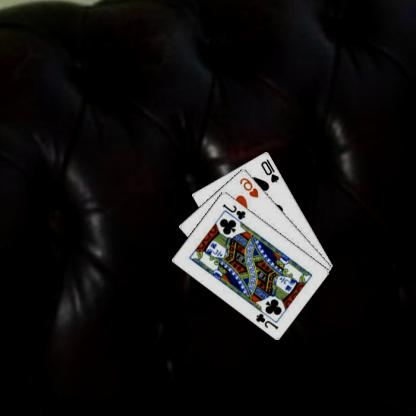10S: (260, 156, 282, 184)
6H: (239, 174, 261, 198)
JC: (255, 310, 282, 330), (222, 201, 248, 220)
